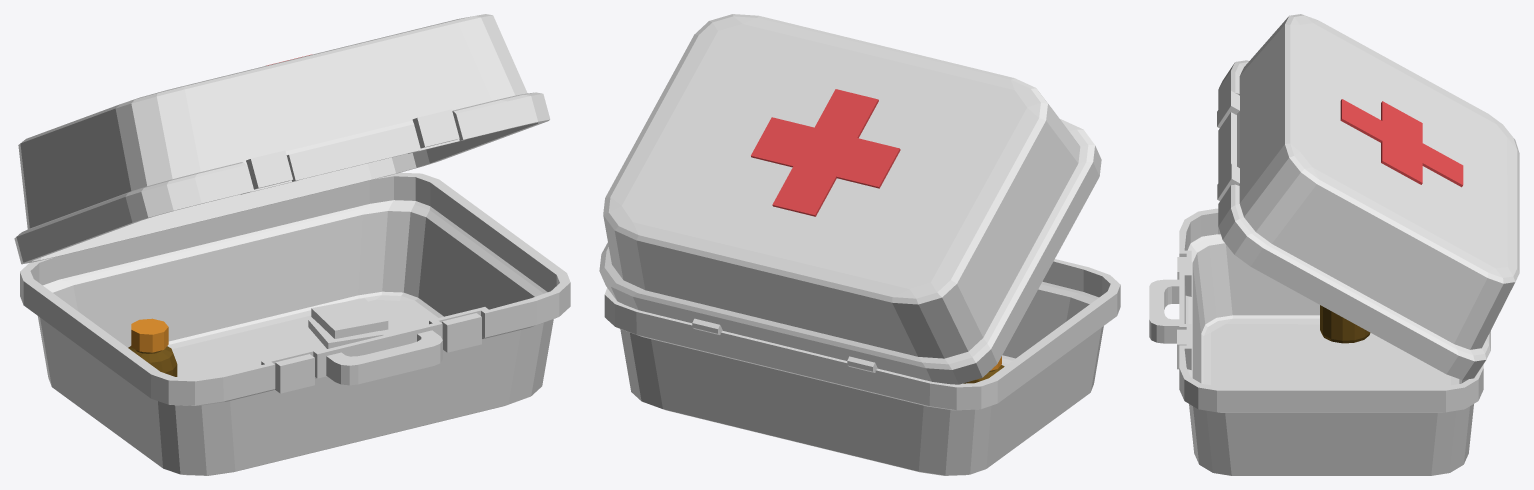
Rendered from first_aid_kitblend.fbx.
The picture shows the model from 3 angles, left to right: view 1: azimuth 30°, elevation 25°; view 2: azimuth 150°, elevation 25°; view 3: azimuth 270°, elevation 25°; orthographic projection. The views are drawn at different scales.
Visible parts, largest first — view 1: Cube, Lid, Cube.002, Plane.002, Cylinder.003, Plane.001, Cylinder.001; view 2: Lid, Cube, Cube.001; view 3: Lid, Cube, Cube.001, Cube.002, Cylinder.001.
Part boxes in pixels (<box>): Cube: <box>20,172,570,475</box>; Lid: <box>14,14,550,264</box>; Cube.002: <box>326,330,442,385</box>; Plane.002: <box>311,298,388,338</box>; Cylinder.003: <box>131,318,168,352</box>; Plane.001: <box>308,319,383,348</box>; Cylinder.001: <box>128,346,177,376</box>; Lid: <box>599,14,1101,384</box>; Cube: <box>604,259,1120,475</box>; Cube.001: <box>751,89,900,216</box>; Lid: <box>1217,14,1519,379</box>; Cube: <box>1177,208,1483,475</box>; Cube.001: <box>1340,99,1463,187</box>; Cube.002: <box>1149,279,1179,343</box>; Cylinder.001: <box>1320,305,1370,343</box>.
Bounding box in the file's own units: 216 × 173 × 186.
